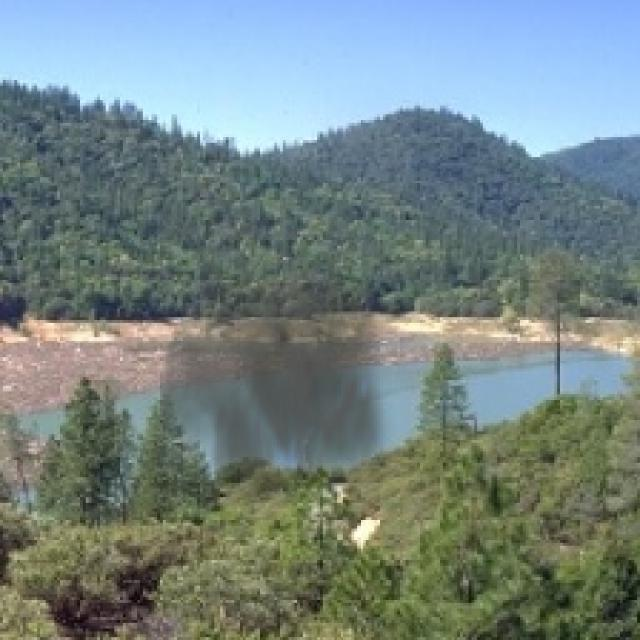Smoke: (160, 228, 397, 503)
